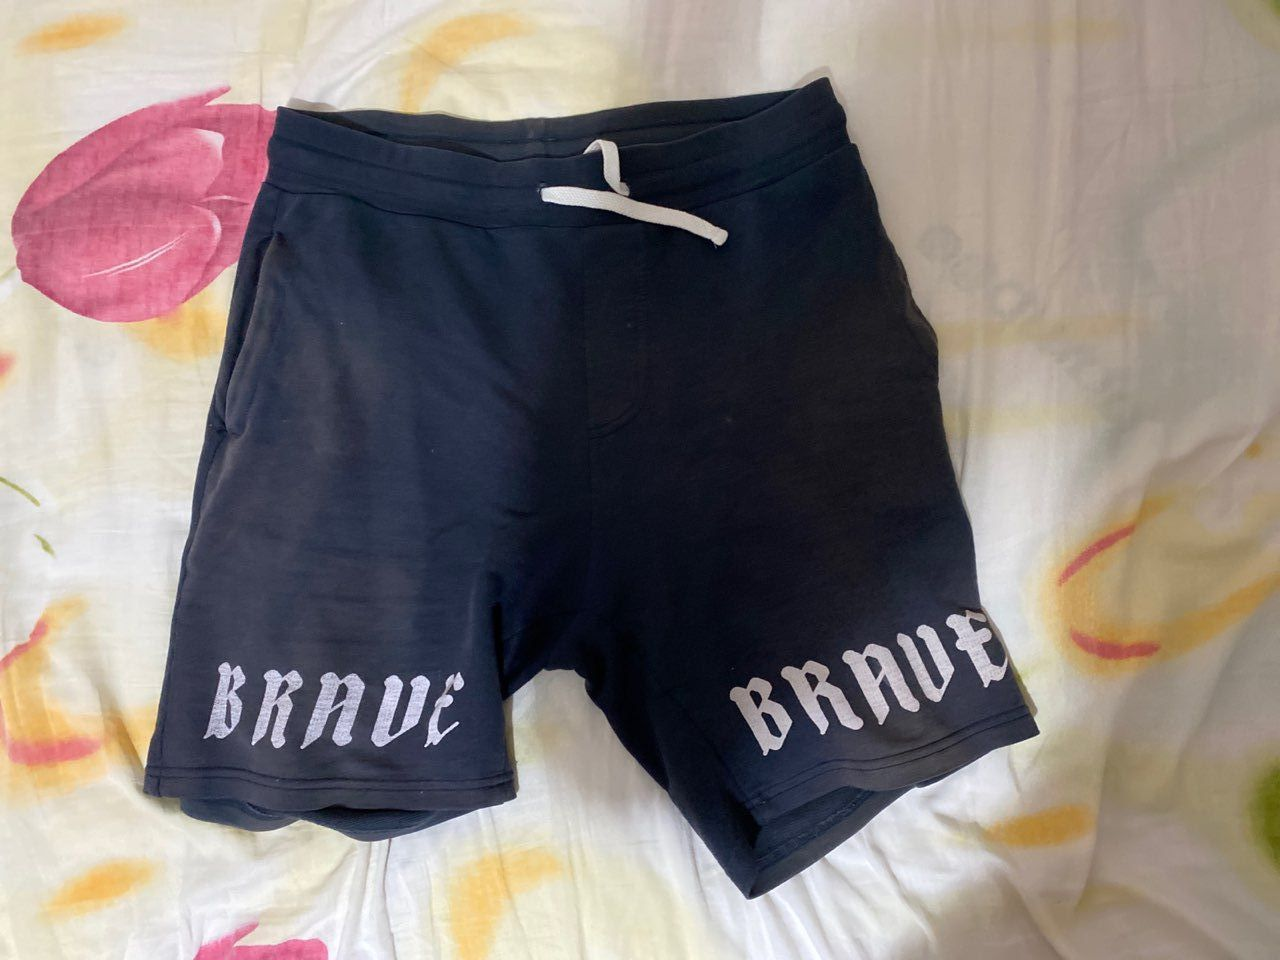clothes: (136, 88, 1038, 880)
